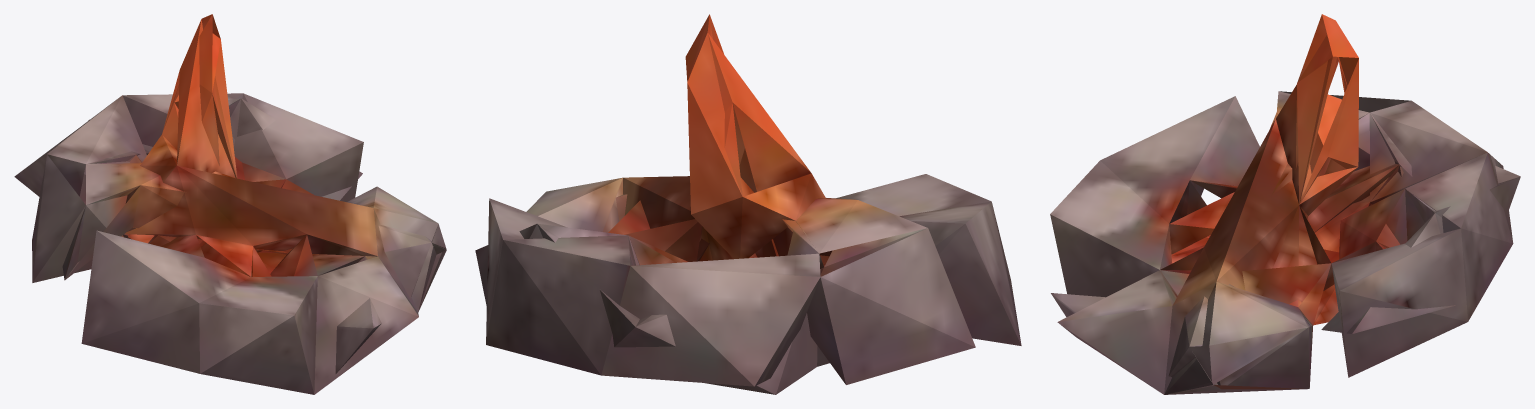
File: campfire.glb
3 renders of one model, left to right at view 1: azimuth 30°, elevation 25°; view 2: azimuth 150°, elevation 25°; view 3: azimuth 270°, elevation 25°, orthographic. The views are drawn at different scales.
Visible parts, largest first — view 1: campfire; view 2: campfire; view 3: campfire.
Boxes of the visible parts, x1,y1,x2,y2 form: campfire: (14,14,446,394); campfire: (475,14,1021,394); campfire: (1050,14,1520,394).
Bounding box in the file's own units: 0.7645 × 0.5775 × 0.75.
Materials: 1 (1 with a texture image).
